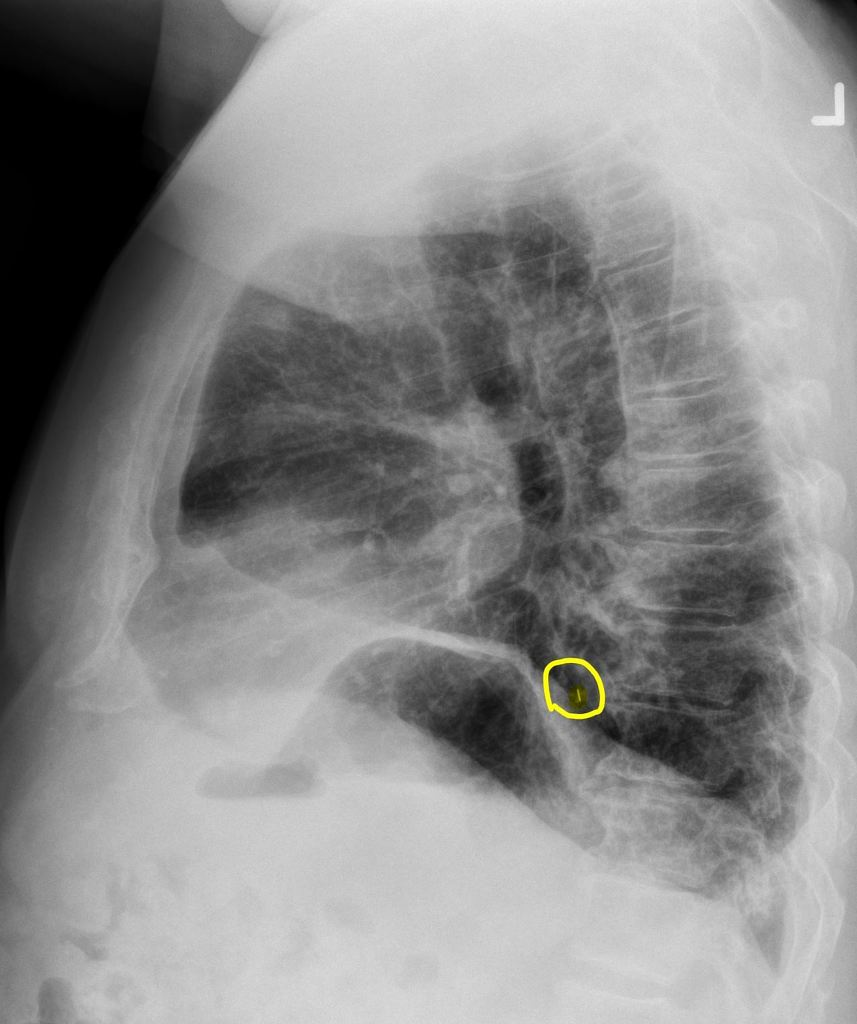cancer: (371, 285, 773, 857)
